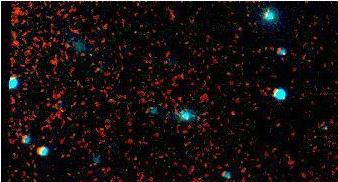star: (220, 100, 250, 130)
